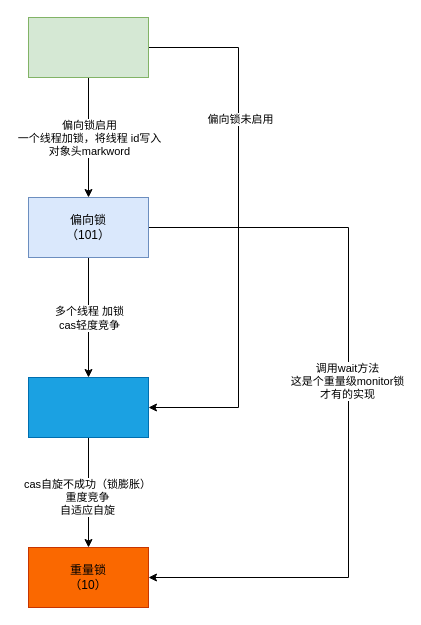
The diagram is 421 pixels wide and 625 high, and some of its shapes have lost their labels. Each missing label, with the box of its shape:
无状态 （001）: (28, 16, 148, 78)
轻量锁 （00）: (28, 376, 148, 438)
